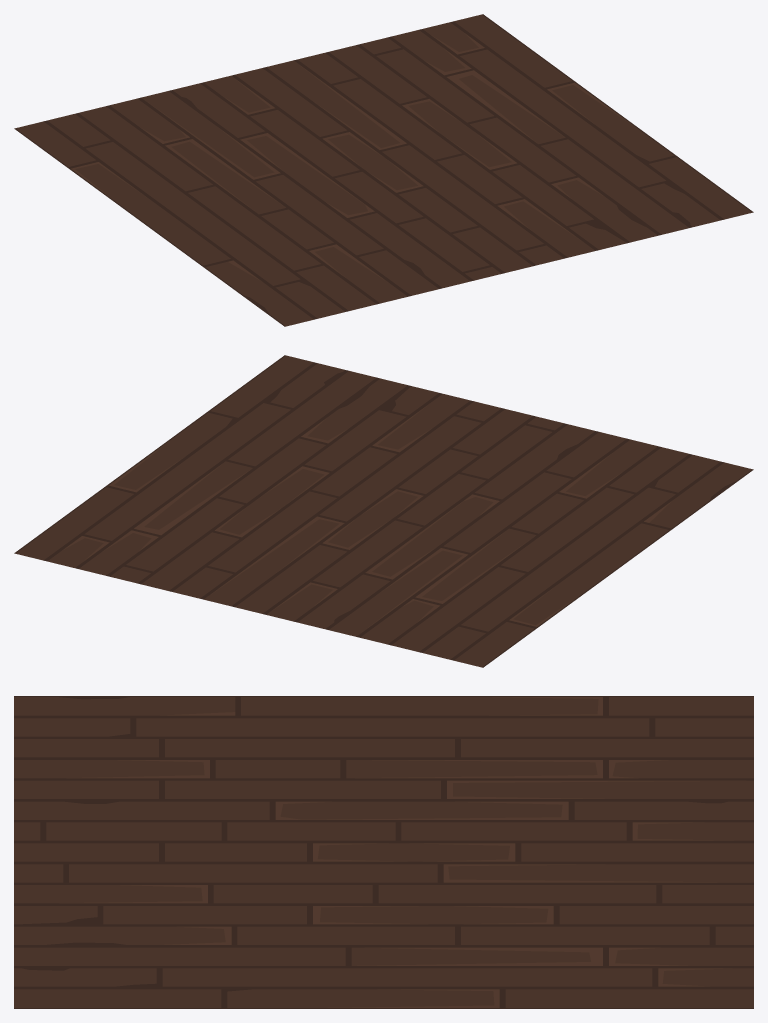
Rendered from BG_ground_Wood_mesh.fbx.
The picture shows the model from 3 angles, top to bottom: view 1: azimuth 30°, elevation 25°; view 2: azimuth 150°, elevation 25°; view 3: azimuth 270°, elevation 25°; orthographic projection. The views are drawn at different scales.
Visible parts, largest first — view 1: BG_ground_Wood_mesh; view 2: BG_ground_Wood_mesh; view 3: BG_ground_Wood_mesh.
Part boxes in pixels (bbox=[...]): BG_ground_Wood_mesh: bbox=[14, 14, 753, 326]; BG_ground_Wood_mesh: bbox=[14, 355, 753, 667]; BG_ground_Wood_mesh: bbox=[14, 696, 753, 1008].
Size of the model in its own units: 100 by 0.000118 by 100.
1 material, 1 textured.
